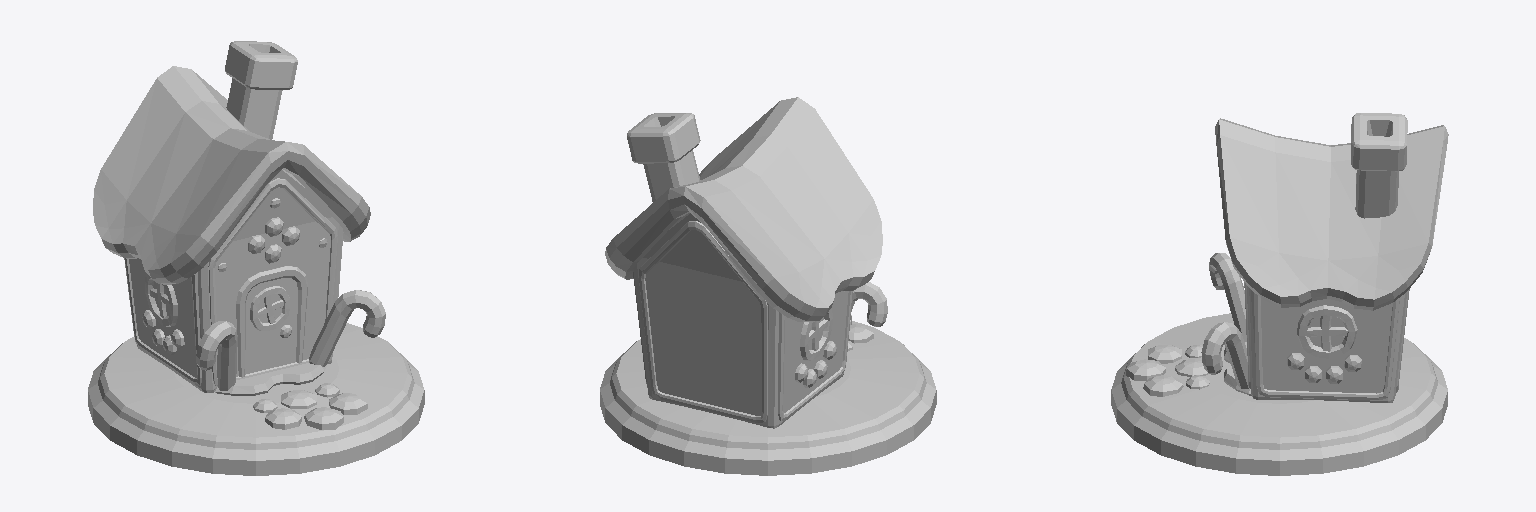
File: gingerbread_house_decorated.obj
3 views of the same model, side by side, from view 1: azimuth 30°, elevation 25°; view 2: azimuth 150°, elevation 25°; view 3: azimuth 270°, elevation 25° (orthographic).
Visible parts, largest first — view 1: gingerbread_house_decorated; view 2: gingerbread_house_decorated; view 3: gingerbread_house_decorated.
Boxes of the visible parts, x1,y1,x2,y2 form: gingerbread_house_decorated: [88, 41, 424, 475]; gingerbread_house_decorated: [600, 97, 936, 475]; gingerbread_house_decorated: [1111, 113, 1448, 475].
Bounding box in the file's own units: 1.56 × 1.65 × 1.56.